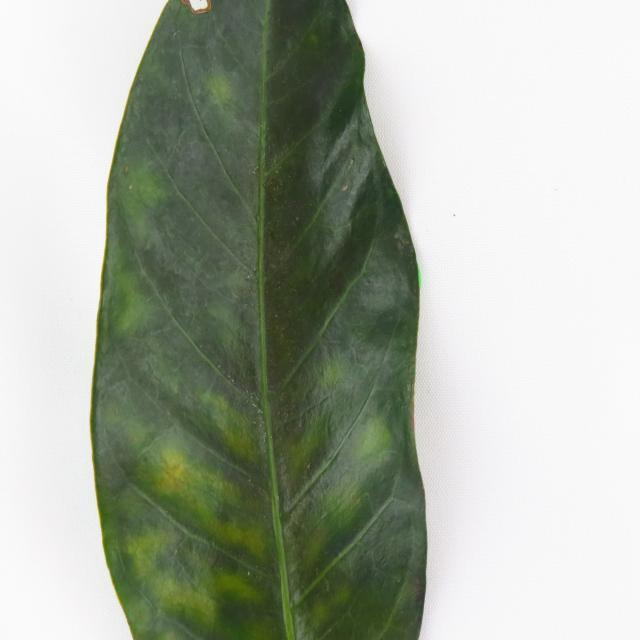DeficienciaNutricional-Magnesio: (91, 0, 426, 638)
